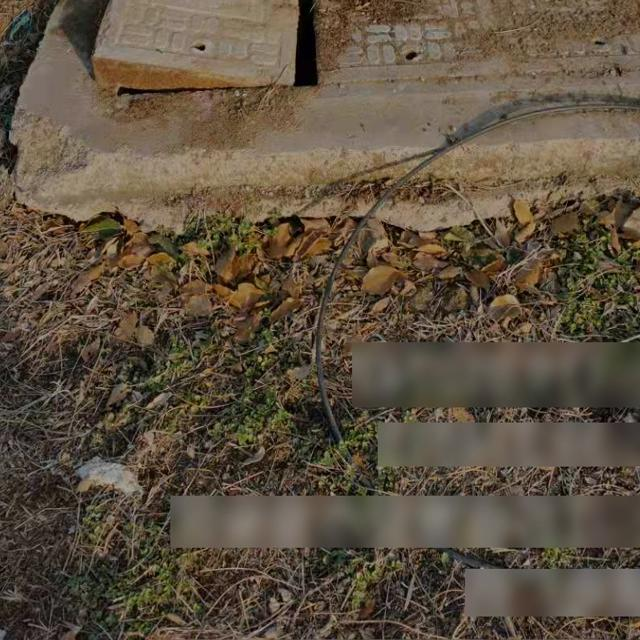uncovered: (91, 0, 640, 104)
